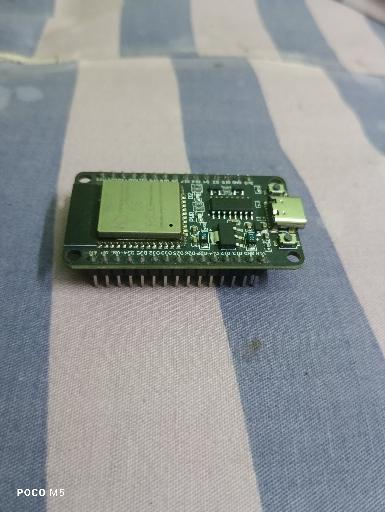Esp32: (63, 170, 307, 289)
